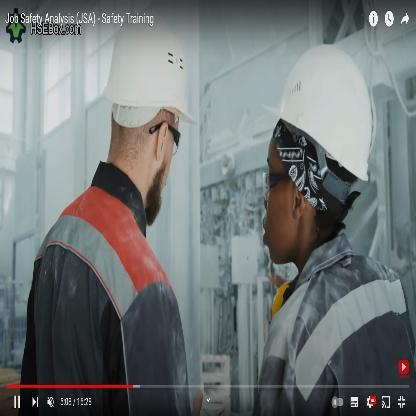helmet: (235, 31, 376, 245), (100, 24, 195, 214)
